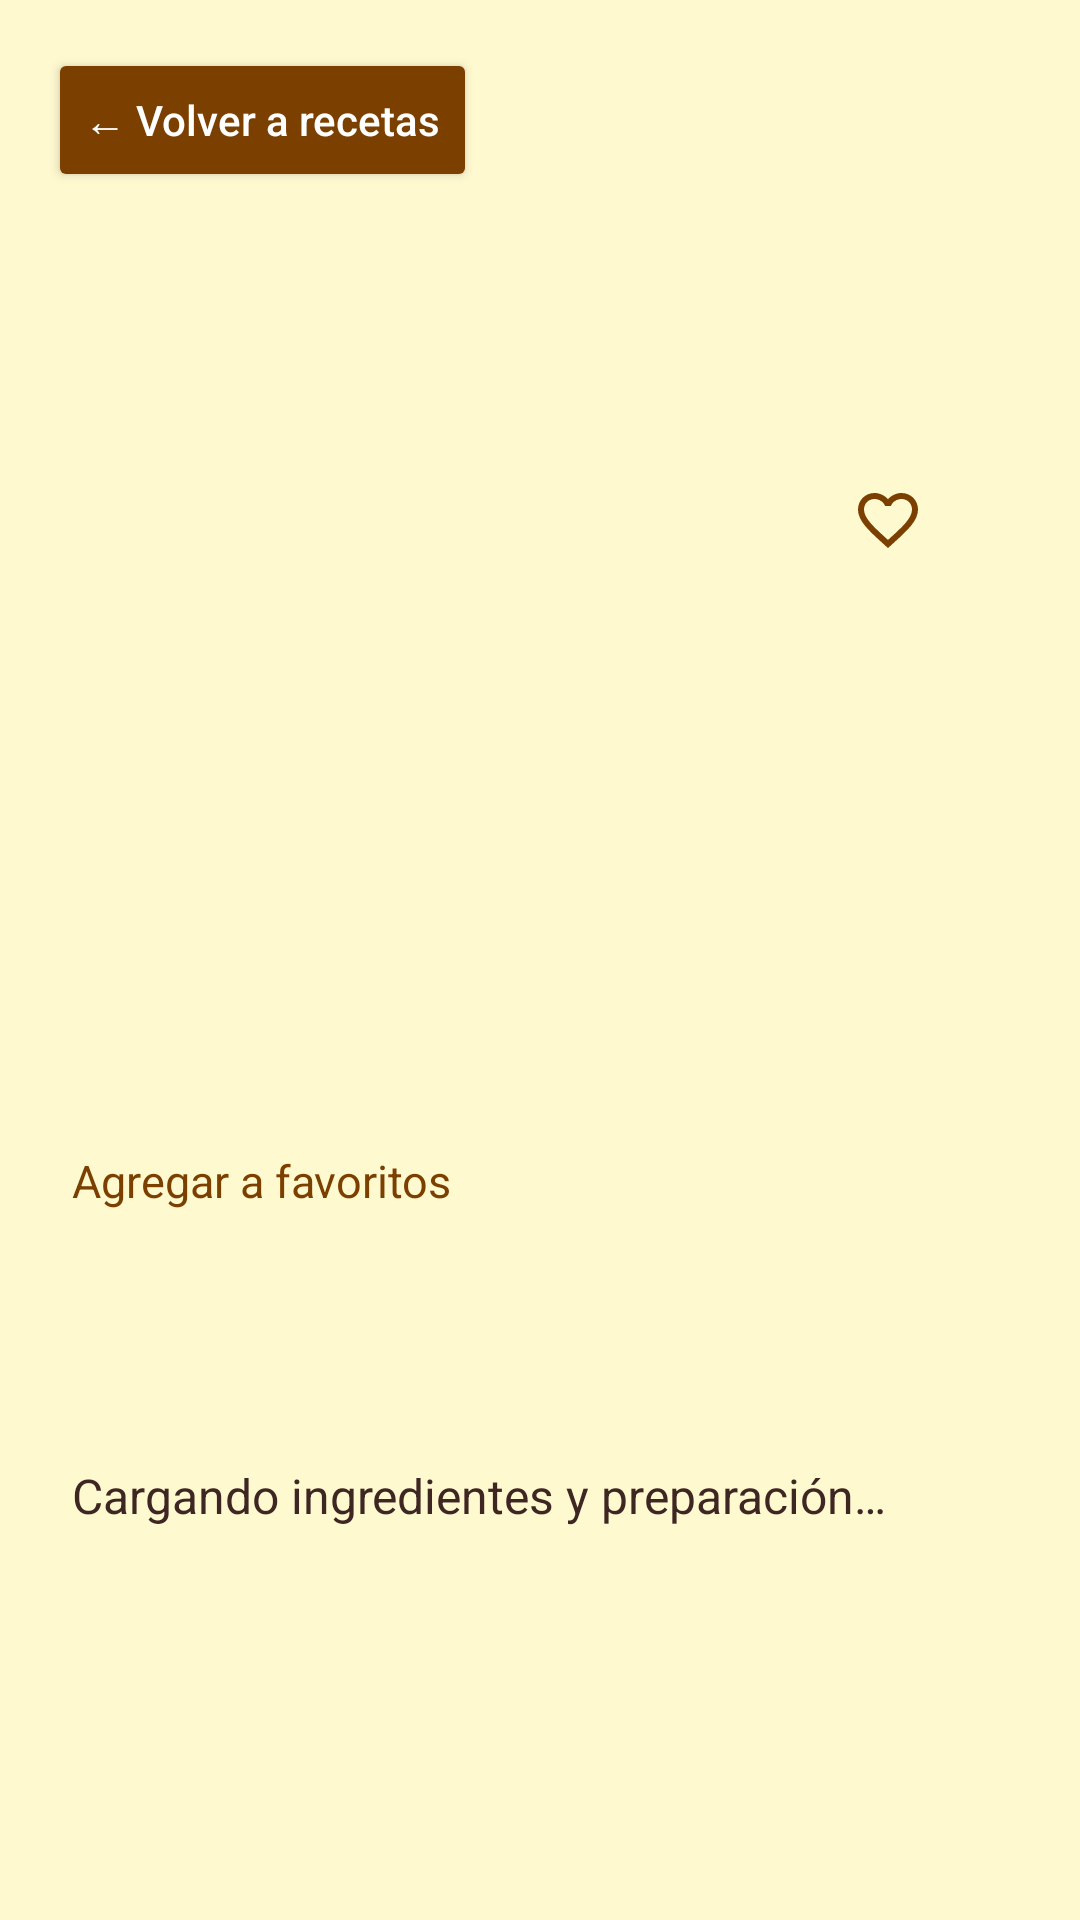

Where icons sit on this 1080 x 1920 app screen, as {"left": x1, "top": y1, "right": x2, "bottom": y2}:
Agregar a favoritos: {"left": 858, "top": 493, "right": 918, "bottom": 548}
